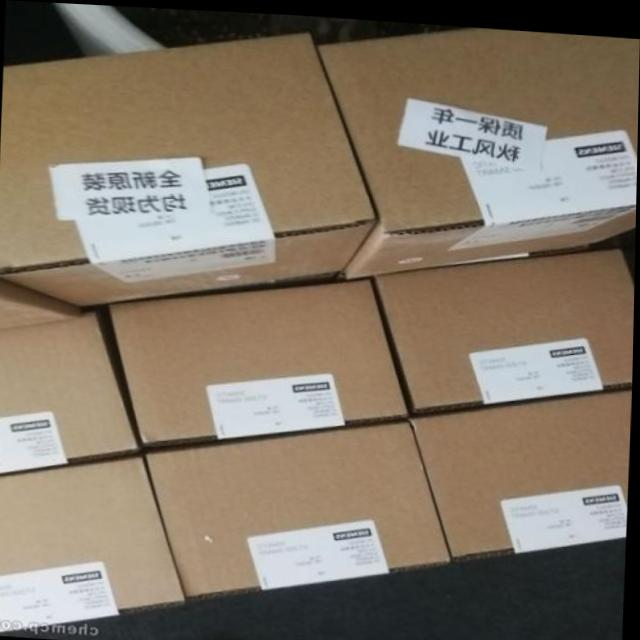box: (0, 28, 378, 307), (317, 22, 640, 276), (145, 415, 454, 600), (109, 275, 412, 445), (374, 242, 636, 408), (413, 382, 633, 558), (0, 455, 190, 633), (0, 311, 144, 474), (0, 278, 95, 329)
